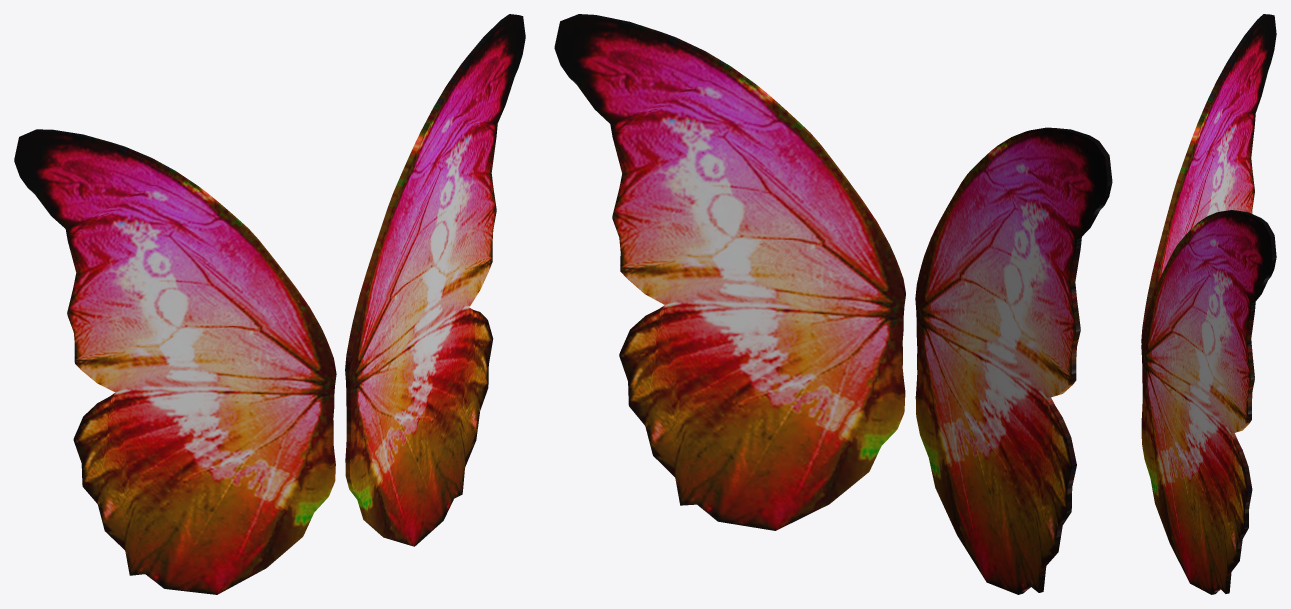
File: Butterfly_Wings_03.fbx
3 views of the same model, side by side, from view 1: azimuth 30°, elevation 25°; view 2: azimuth 150°, elevation 25°; view 3: azimuth 270°, elevation 25° (orthographic). The views are drawn at different scales.
Parts seen in each view (by area): view 1: ButterflyWings; view 2: ButterflyWings; view 3: ButterflyWings.
Boxes of the visible parts, x1=… form: ButterflyWings: x1=14, y1=14, x2=525, y2=594; ButterflyWings: x1=554, y1=14, x2=1112, y2=594; ButterflyWings: x1=1141, y1=14, x2=1276, y2=594.
Bounding box in the file's own units: 9.91 × 8.66 × 2.52.
Materials: 1 (1 with a texture image).
